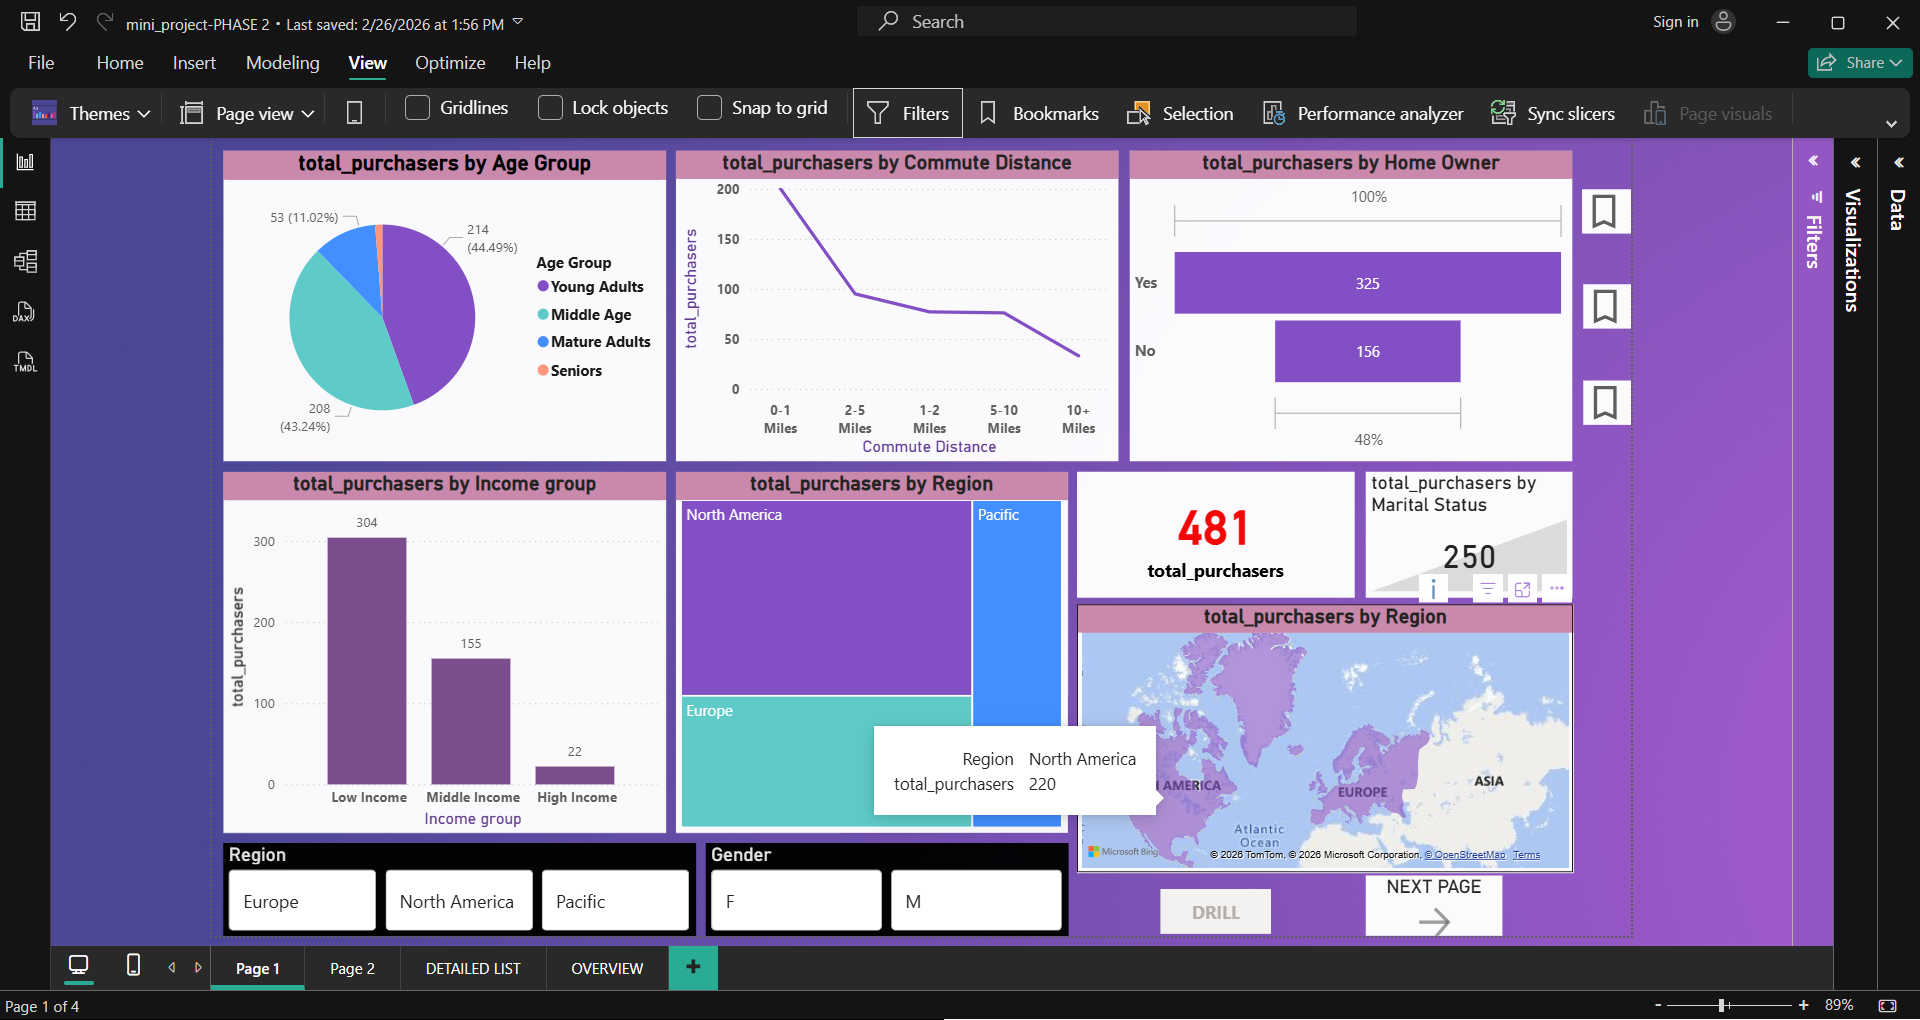

Layout of this report page (visuals, bound fields, positions):
{"tool":"powerbi","page":{"name":"Page 1","canvas":[1280,720],"ordinal":0},"visuals":[{"type":"pieChart","fields":{"Category":["bike_sales.Age Group"],"Y":["bike_sales.total_purchasers"]},"box":[10,11.2,399.3,279.9],"z":0},{"type":"columnChart","fields":{"Category":["bike_sales.Income group"],"Y":["bike_sales.total_purchasers"]},"box":[10,301,399.3,325.9],"z":1000},{"type":"lineChart","fields":{"Category":["bike_sales.Commute Distance"],"Y":["bike_sales.total_purchasers"]},"box":[418,11.2,399.3,279.9],"z":2000},{"type":"treemap","fields":{"Group":["bike_sales.Region"],"Values":["bike_sales.total_purchasers"]},"box":[418,301,353.3,325.9],"z":3000},{"type":"funnel","fields":{"Category":["bike_sales.Home Owner"],"Y":["bike_sales.total_purchasers"]},"box":[827.4,11,399.3,279.9],"z":4000},{"type":"card","fields":{"Values":["bike_sales.total_purchasers"]},"box":[780,301,250,113.2],"z":5000},{"type":"kpi","fields":{"Indicator":["bike_sales.total_purchasers"],"TrendLine":["bike_sales.Marital Status"]},"box":[1040,301,186.6,113.2],"z":6000},{"type":"filledMap","fields":{"Category":["bike_sales.Region"]},"box":[780,420.5,447.8,242.6],"z":7000},{"type":"advancedSlicerVisual","fields":{"Values":["bike_sales.Region"]},"box":[10,635.7,426.7,84.6],"z":8000},{"type":"advancedSlicerVisual","fields":{"Values":["bike_sales.Gender"]},"box":[445.3,635.7,327.2,84.6],"z":9000},{"type":"actionButton","title":"NEXT PAGE","box":[1040,665.5,123.2,54.7],"z":10000},{"type":"actionButton","box":[855.8,678,99.5,39.8],"z":11000},{"type":"actionButton","box":[1235.3,46,44.8,39.8],"z":11001},{"type":"actionButton","box":[1236.5,131.9,43.5,39.8],"z":11002},{"type":"actionButton","box":[1236.5,218.9,43.5,39.8],"z":11003}]}

Visuals, with their boxes on the page's 1280x720 design canvas (x1, y1, x2, y2). These are canvas units, not pixel positions in the 1920x1020 screenshot, which may show the page scaled, cropped or inside an application window:
pieChart - bike_sales.Age Group x bike_sales.total_purchasers: x1=10 y1=11 x2=409 y2=291
columnChart - bike_sales.Income group x bike_sales.total_purchasers: x1=10 y1=301 x2=409 y2=627
lineChart - bike_sales.Commute Distance x bike_sales.total_purchasers: x1=418 y1=11 x2=817 y2=291
treemap - bike_sales.Region x bike_sales.total_purchasers: x1=418 y1=301 x2=771 y2=627
funnel - bike_sales.Home Owner x bike_sales.total_purchasers: x1=827 y1=11 x2=1227 y2=291
card - bike_sales.total_purchasers: x1=780 y1=301 x2=1030 y2=414
kpi - bike_sales.total_purchasers x bike_sales.Marital Status: x1=1040 y1=301 x2=1227 y2=414
filledMap - bike_sales.Region: x1=780 y1=420 x2=1228 y2=663
advancedSlicerVisual - bike_sales.Region: x1=10 y1=636 x2=437 y2=720
advancedSlicerVisual - bike_sales.Gender: x1=445 y1=636 x2=772 y2=720
"NEXT PAGE" actionButton: x1=1040 y1=666 x2=1163 y2=720
actionButton: x1=856 y1=678 x2=955 y2=718
actionButton: x1=1235 y1=46 x2=1280 y2=86
actionButton: x1=1236 y1=132 x2=1280 y2=172
actionButton: x1=1236 y1=219 x2=1280 y2=259
